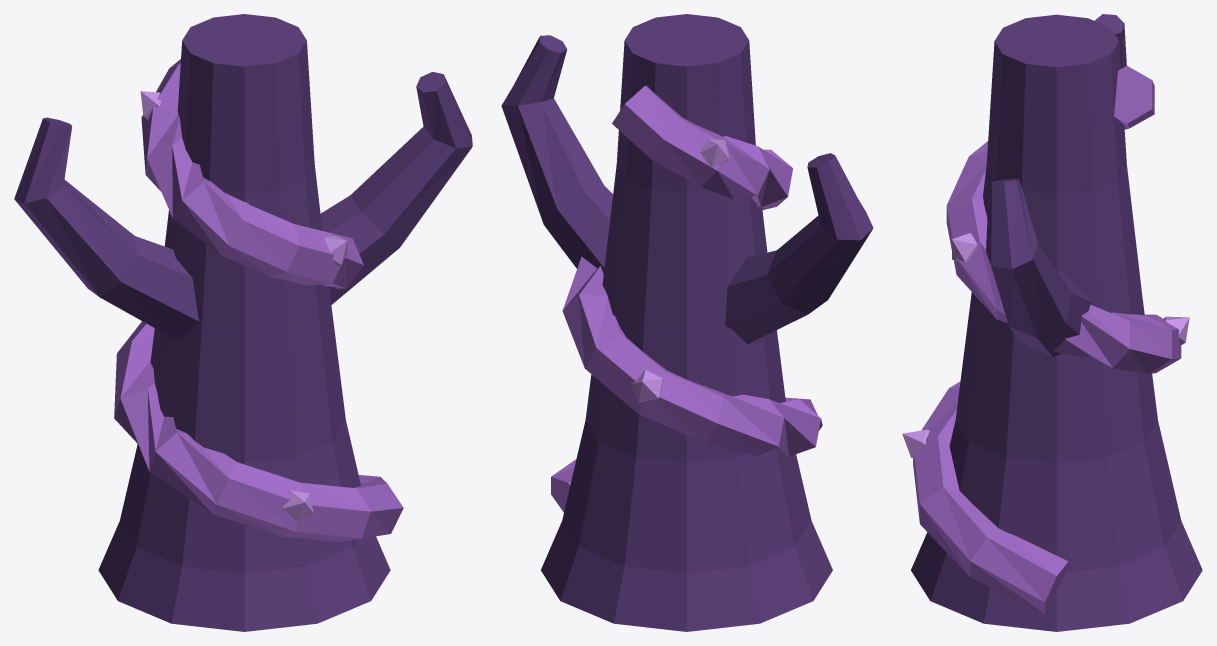
The model's file is AmethystSpiralTrunk.glb.
3 views of the same model, side by side, from view 1: azimuth 30°, elevation 25°; view 2: azimuth 150°, elevation 25°; view 3: azimuth 270°, elevation 25° (orthographic).
Parts seen in each view (by area): view 1: AmethystSpiralTrunk_AmethystBark, AmethystSpiralTrunk_SpiralRidge, AmethystSpiralTrunk_EmbeddedAmethyst; view 2: AmethystSpiralTrunk_AmethystBark, AmethystSpiralTrunk_SpiralRidge, AmethystSpiralTrunk_EmbeddedAmethyst; view 3: AmethystSpiralTrunk_AmethystBark, AmethystSpiralTrunk_SpiralRidge, AmethystSpiralTrunk_EmbeddedAmethyst.
Boxes of the visible parts, x1,y1,x2,y2 form: AmethystSpiralTrunk_AmethystBark: (14,14,472,631); AmethystSpiralTrunk_SpiralRidge: (114,59,403,541); AmethystSpiralTrunk_EmbeddedAmethyst: (140,91,347,522); AmethystSpiralTrunk_AmethystBark: (501,14,873,631); AmethystSpiralTrunk_SpiralRidge: (551,86,822,512); AmethystSpiralTrunk_EmbeddedAmethyst: (631,138,729,402); AmethystSpiralTrunk_AmethystBark: (911,14,1202,631); AmethystSpiralTrunk_SpiralRidge: (913,66,1181,613); AmethystSpiralTrunk_EmbeddedAmethyst: (902,233,1189,458).
Bounding box in the file's own units: 2.42 × 3 × 1.54.
